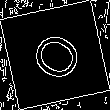O_SE: (22, 23, 88, 87)
